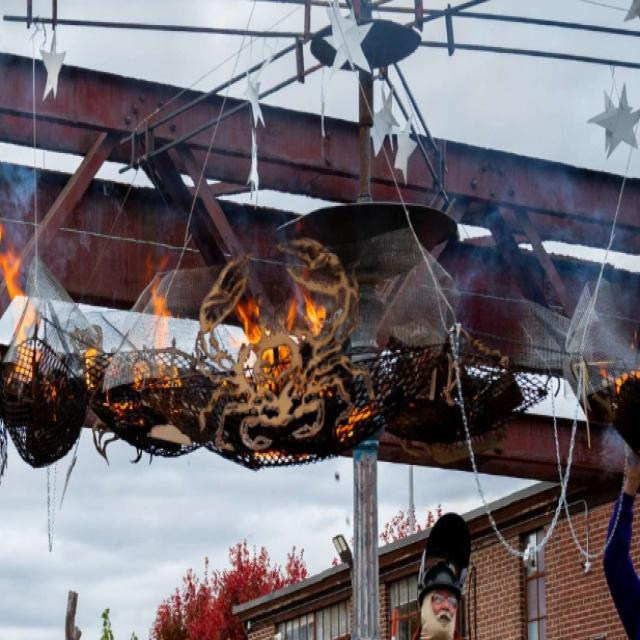fire: (0, 222, 59, 423), (235, 294, 325, 403), (78, 346, 181, 428), (144, 252, 172, 348), (598, 332, 640, 395), (337, 397, 381, 443)
